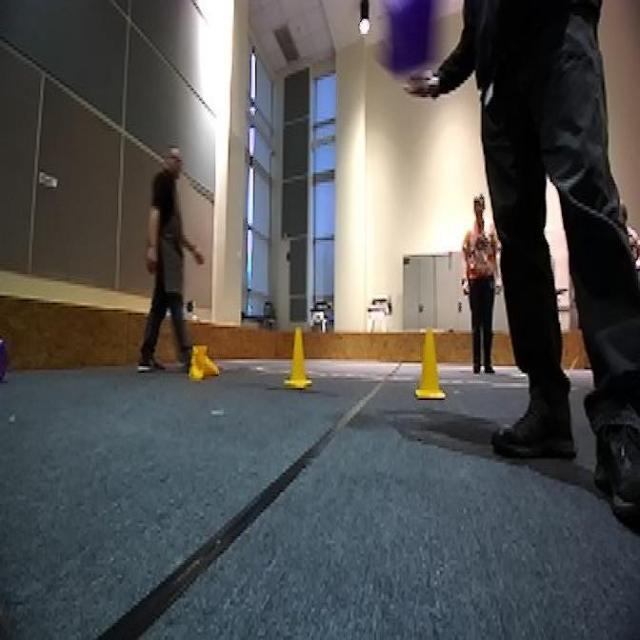frc_cone: (408, 329, 454, 400), (282, 328, 314, 386), (188, 346, 218, 381)
frc_cube: (365, 0, 438, 78), (0, 337, 10, 383)
